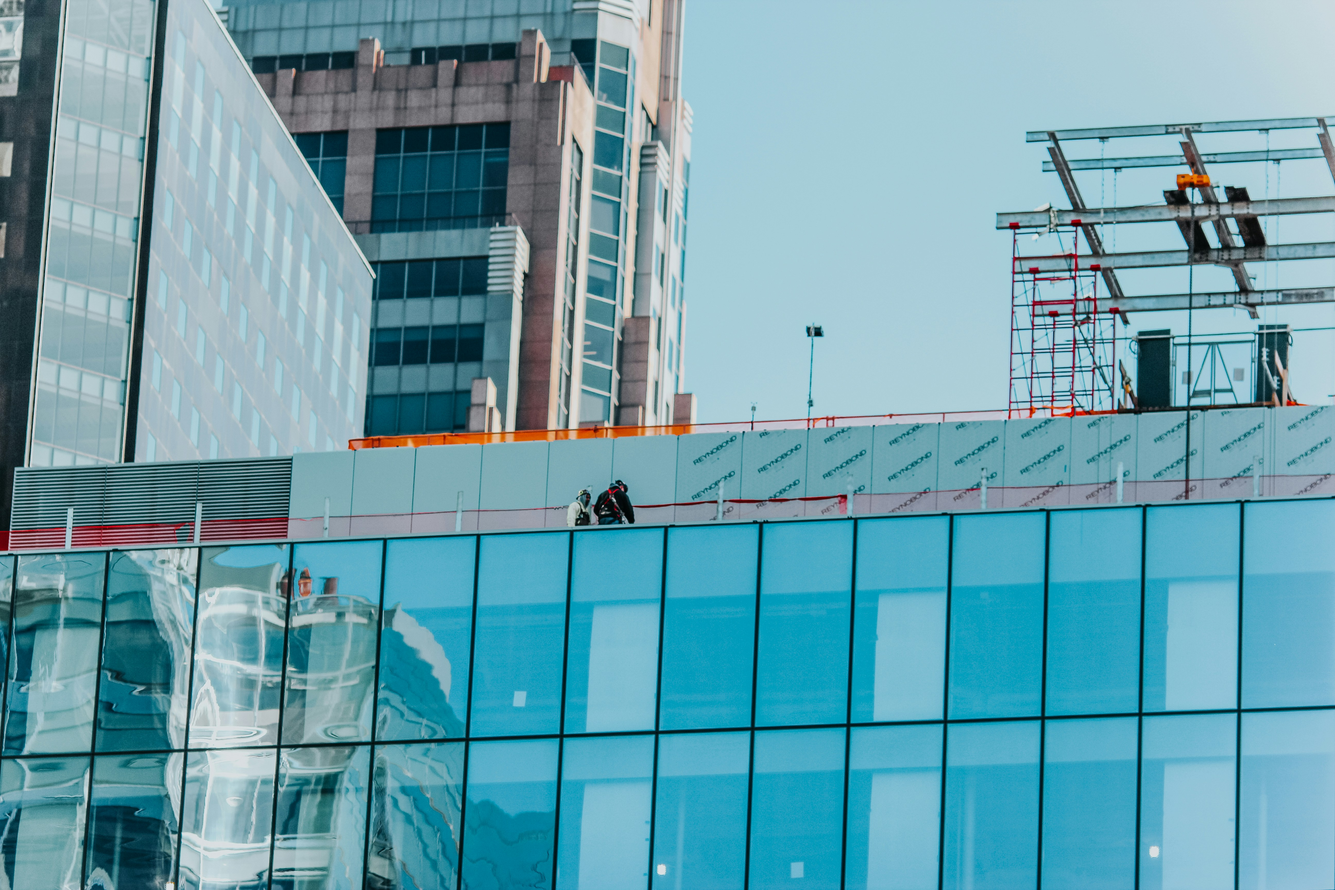glass_panel: (3, 552, 106, 755), (95, 549, 197, 751), (1141, 504, 1240, 712), (470, 533, 570, 736), (660, 525, 759, 730), (281, 542, 381, 744), (376, 538, 475, 740), (948, 513, 1045, 718), (756, 521, 853, 726), (189, 545, 287, 747), (566, 529, 663, 733), (1046, 509, 1141, 717), (851, 518, 948, 721), (1242, 500, 1335, 707), (1139, 712, 1236, 890), (1240, 711, 1335, 890), (1041, 717, 1138, 890), (943, 722, 1040, 890), (846, 724, 943, 890), (651, 732, 750, 890), (749, 728, 845, 890), (556, 735, 655, 890), (365, 742, 465, 890), (463, 739, 558, 890), (272, 746, 370, 890), (179, 749, 276, 890), (84, 753, 181, 890), (0, 758, 89, 890)
